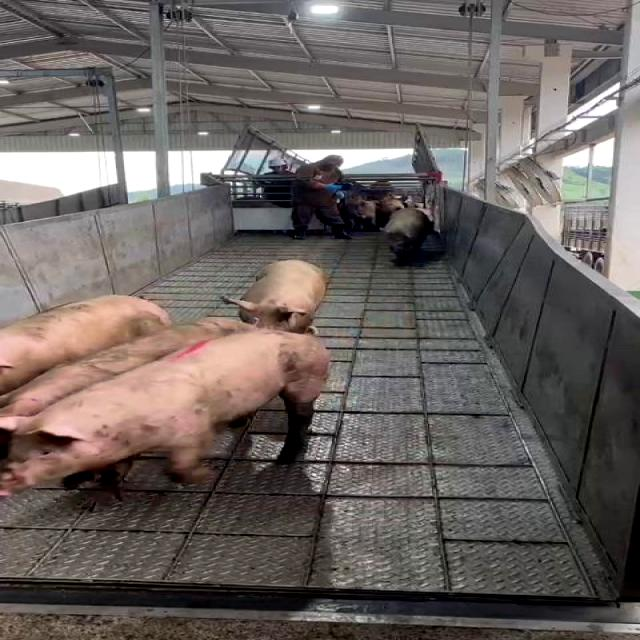pig: (0, 329, 330, 496), (0, 318, 254, 417), (0, 296, 172, 393), (222, 260, 328, 334), (385, 209, 433, 256)
